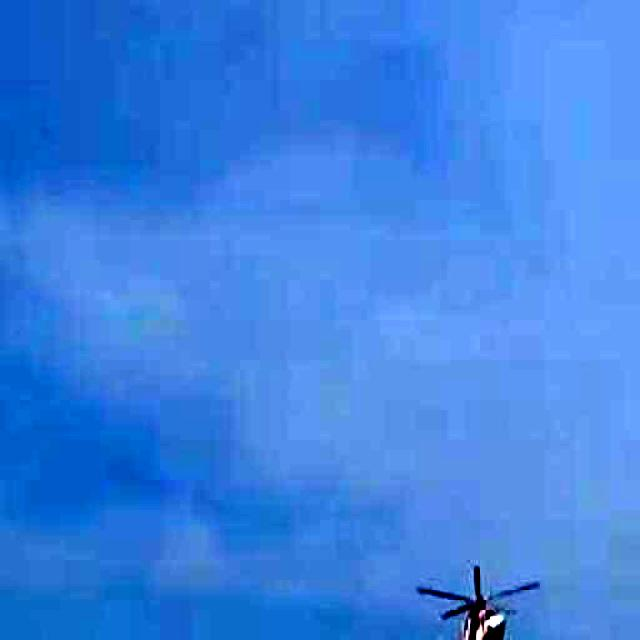drone: (411, 560, 538, 640)
